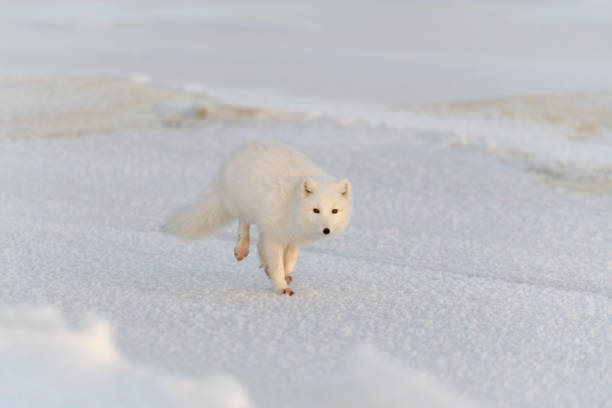arcticfox: (302, 170, 354, 242)
